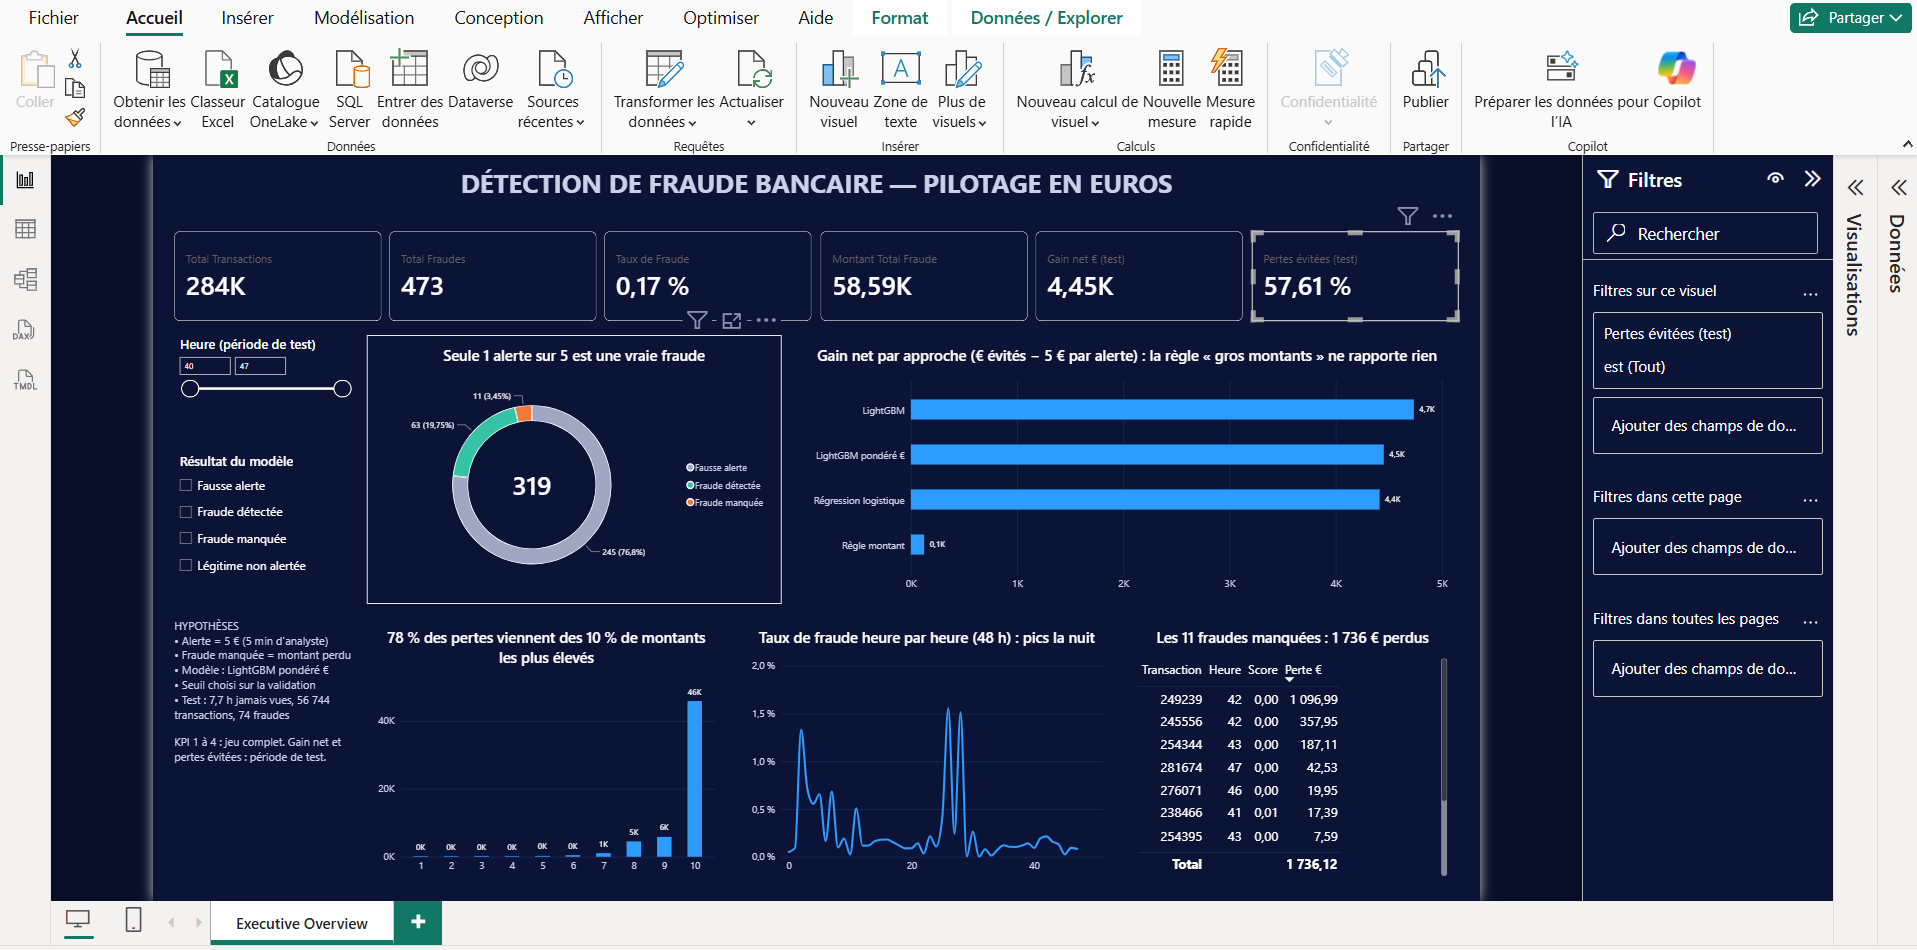

The page's visual inventory and layout, read from the dashboard file:
{"tool":"powerbi","page":{"name":"Executive Overview","canvas":[1920,1080],"ordinal":0},"visuals":[{"type":"textbox","box":[0,0,280,280],"z":0},{"type":"textbox","box":[30,15,1860,80],"z":1000},{"type":"cardVisual","fields":{"Data":["fraud_by_amount_decile.Total Transactions"]},"box":[30,110,300,130],"z":2000},{"type":"cardVisual","fields":{"Data":["fraud_by_amount_decile.Total Fraudes"]},"box":[342,110,300,130],"z":3000},{"type":"cardVisual","fields":{"Data":["fraud_by_amount_decile.Taux de Fraude"]},"box":[654,110,300,130],"z":4000},{"type":"cardVisual","fields":{"Data":["fraud_by_amount_decile.Montant Total Fraude"]},"box":[966,110,300,130],"z":5000},{"type":"cardVisual","fields":{"Data":["model_comparison.Economies Nettes"]},"box":[1278,110,300,130],"z":6000},{"type":"cardVisual","fields":{"Data":["test_transactions_scored.Pertes évitées %"]},"box":[1590,110,300,130],"z":7000},{"type":"donutChart","title":"Seule 1 alerte sur 5 est une vraie fraude","fields":{"Category":["test_transactions_scored.outcome"],"Y":["test_transactions_scored.Transactions"]},"box":[310,260,600,390],"z":8000},{"type":"clusteredBarChart","title":"Gain net par approche (€ évités − 5 € par alerte) : la règle « gros montants » ne rapporte rien","fields":{"Category":["model_comparison.model"],"Y":["Sum(model_comparison.net_savings)"]},"box":[930,260,960,390],"z":9000},{"type":"clusteredColumnChart","title":"78 % des pertes viennent des 10 % de montants les plus élevés","fields":{"Category":["fraud_by_amount_decile.amount_decile"],"Y":["Sum(fraud_by_amount_decile.fraud_amount_eur)"]},"box":[310,670,520,390],"z":10000},{"type":"lineChart","title":"Taux de fraude heure par heure (48 h) : pics la nuit","fields":{"Category":["hourly_fraud.hour_elapsed"],"Y":["hourly_fraud.Taux de fraude horaire"]},"box":[850,670,540,390],"z":11000},{"type":"tableEx","title":"Les 11 fraudes manquées : 1 736 € perdus","fields":{"Values":["test_transactions_scored.tx_id","test_transactions_scored.hour_elapsed","test_transactions_scored.score","test_transactions_scored.Perte € (fraude manquée)"]},"box":[1410,670,480,390],"z":12000},{"type":"slicer","fields":{"Values":["test_transactions_scored.hour_elapsed"]},"box":[30,260,260,150],"z":13000},{"type":"slicer","fields":{"Values":["test_transactions_scored.outcome"]},"box":[30,430,260,220],"z":14000},{"type":"textbox","box":[30,670,260,390],"z":15000}]}

Visuals, with their boxes on the page's 1920x1080 design canvas (x1, y1, x2, y2). These are canvas units, not pixel positions in the 1917x950 screenshot, which may show the page scaled, cropped or inside an application window:
textbox: {"x1": 0, "y1": 0, "x2": 280, "y2": 280}
textbox: {"x1": 30, "y1": 15, "x2": 1890, "y2": 95}
cardVisual - fraud_by_amount_decile.Total Transactions: {"x1": 30, "y1": 110, "x2": 330, "y2": 240}
cardVisual - fraud_by_amount_decile.Total Fraudes: {"x1": 342, "y1": 110, "x2": 642, "y2": 240}
cardVisual - fraud_by_amount_decile.Taux de Fraude: {"x1": 654, "y1": 110, "x2": 954, "y2": 240}
cardVisual - fraud_by_amount_decile.Montant Total Fraude: {"x1": 966, "y1": 110, "x2": 1266, "y2": 240}
cardVisual - model_comparison.Economies Nettes: {"x1": 1278, "y1": 110, "x2": 1578, "y2": 240}
cardVisual - test_transactions_scored.Pertes évitées %: {"x1": 1590, "y1": 110, "x2": 1890, "y2": 240}
"Seule 1 alerte sur 5 est une vraie fraude" donutChart: {"x1": 310, "y1": 260, "x2": 910, "y2": 650}
"Gain net par approche (€ évités − 5 € par alerte) : la règle « gros montants » ne rapporte rien" clusteredBarChart: {"x1": 930, "y1": 260, "x2": 1890, "y2": 650}
"78 % des pertes viennent des 10 % de montants les plus élevés" clusteredColumnChart: {"x1": 310, "y1": 670, "x2": 830, "y2": 1060}
"Taux de fraude heure par heure (48 h) : pics la nuit" lineChart: {"x1": 850, "y1": 670, "x2": 1390, "y2": 1060}
"Les 11 fraudes manquées : 1 736 € perdus" tableEx: {"x1": 1410, "y1": 670, "x2": 1890, "y2": 1060}
slicer - test_transactions_scored.hour_elapsed: {"x1": 30, "y1": 260, "x2": 290, "y2": 410}
slicer - test_transactions_scored.outcome: {"x1": 30, "y1": 430, "x2": 290, "y2": 650}
textbox: {"x1": 30, "y1": 670, "x2": 290, "y2": 1060}
